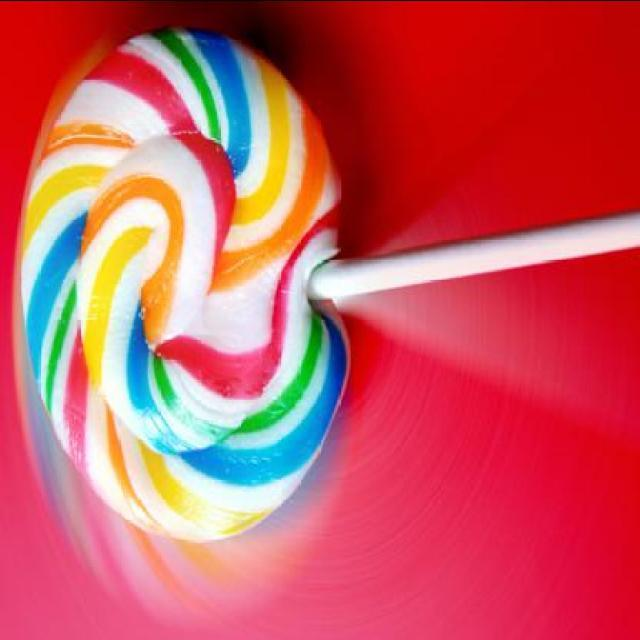Candy: (11, 20, 348, 538)
